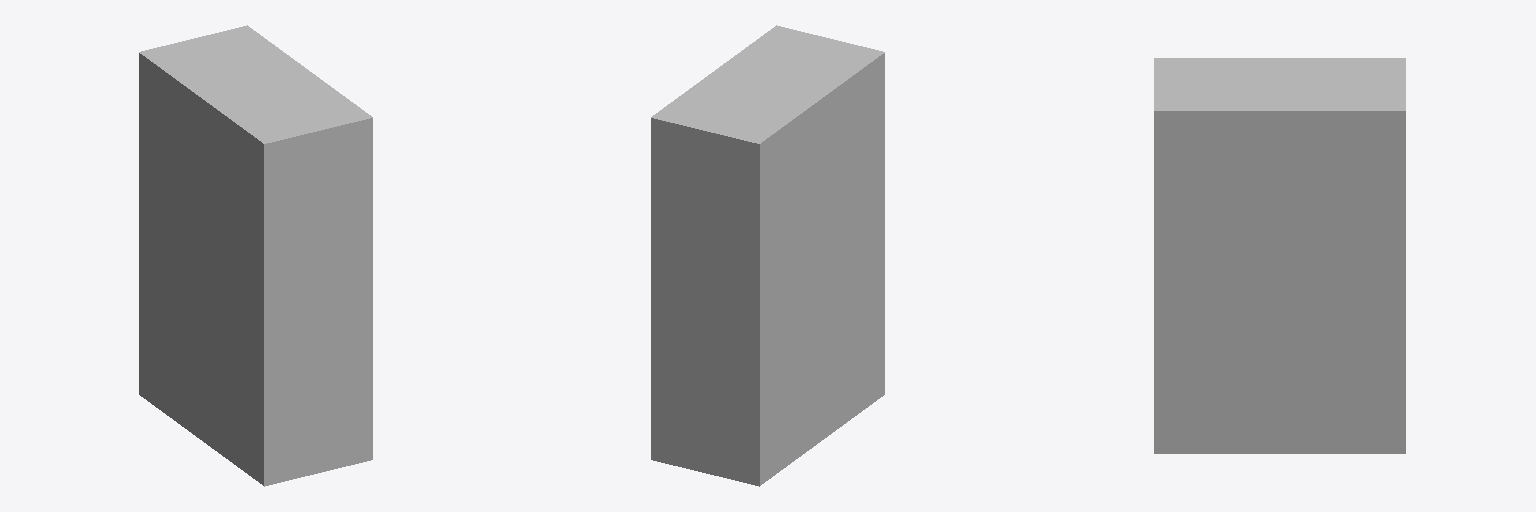
The model's file is body.obj.
3 views of the same model, side by side, from view 1: azimuth 30°, elevation 25°; view 2: azimuth 150°, elevation 25°; view 3: azimuth 270°, elevation 25° (orthographic).
Visible parts, largest first — view 1: object 1; view 2: object 1; view 3: object 1.
Part boxes in pixels (x1,y1,x2,y2): object 1: (139,25,372,486); object 1: (651,25,884,486); object 1: (1154,58,1405,453).
Bounding box in the file's own units: 0.4 × 1.2 × 0.8.